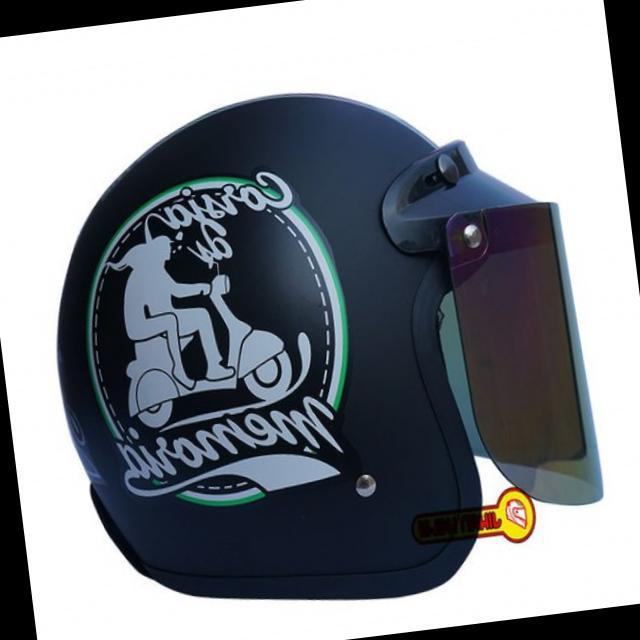Helm: (27, 41, 610, 640)
